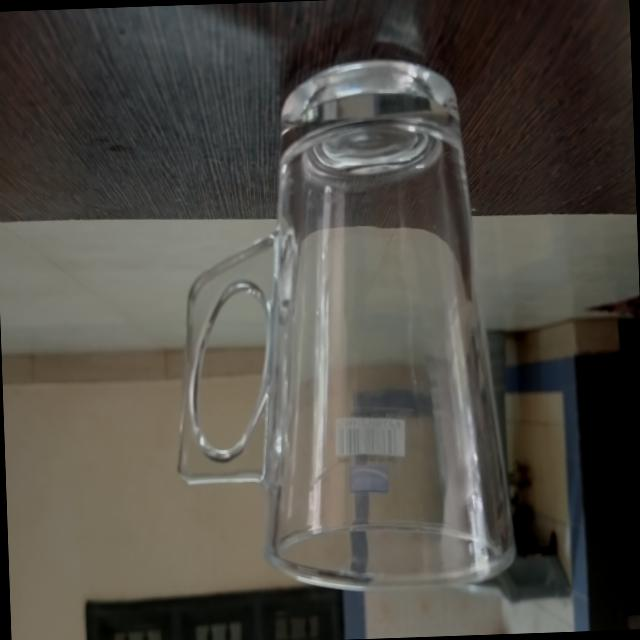glass-VX4N: (157, 40, 519, 602)
